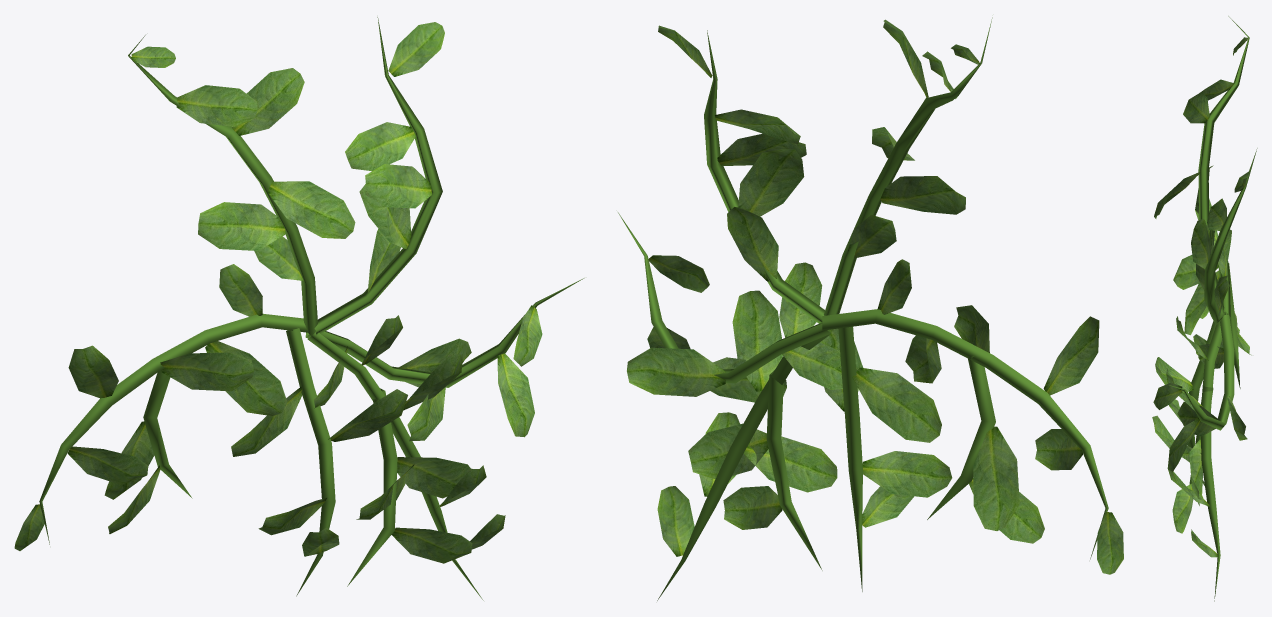
File: polygonum_03.obj
The picture shows the model from 3 angles, left to right: view 1: azimuth 30°, elevation 25°; view 2: azimuth 150°, elevation 25°; view 3: azimuth 270°, elevation 25°; orthographic projection. The views are drawn at different scales.
Parts seen in each view (by area): view 1: polygonum.002; view 2: polygonum.002; view 3: polygonum.002.
Part boxes in pixels (box(x1,y1,x2,y2)): polygonum.002: box(14, 17, 584, 600); polygonum.002: box(618, 17, 1123, 600); polygonum.002: box(1152, 16, 1257, 601).
Bounding box in the file's own units: 0.3007 × 0.3518 × 0.0714.
